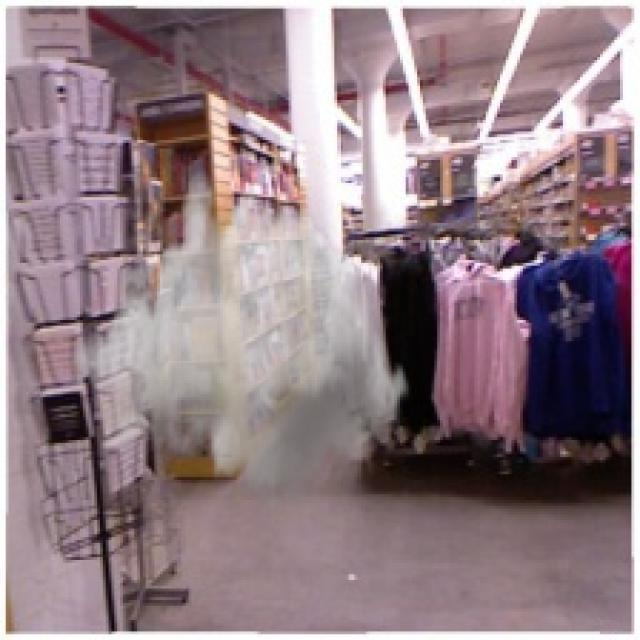Smoke: (69, 165, 412, 518)
